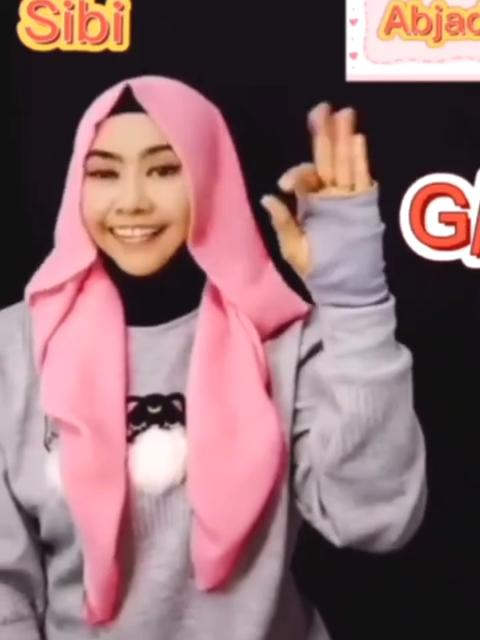F: (262, 99, 384, 295)
